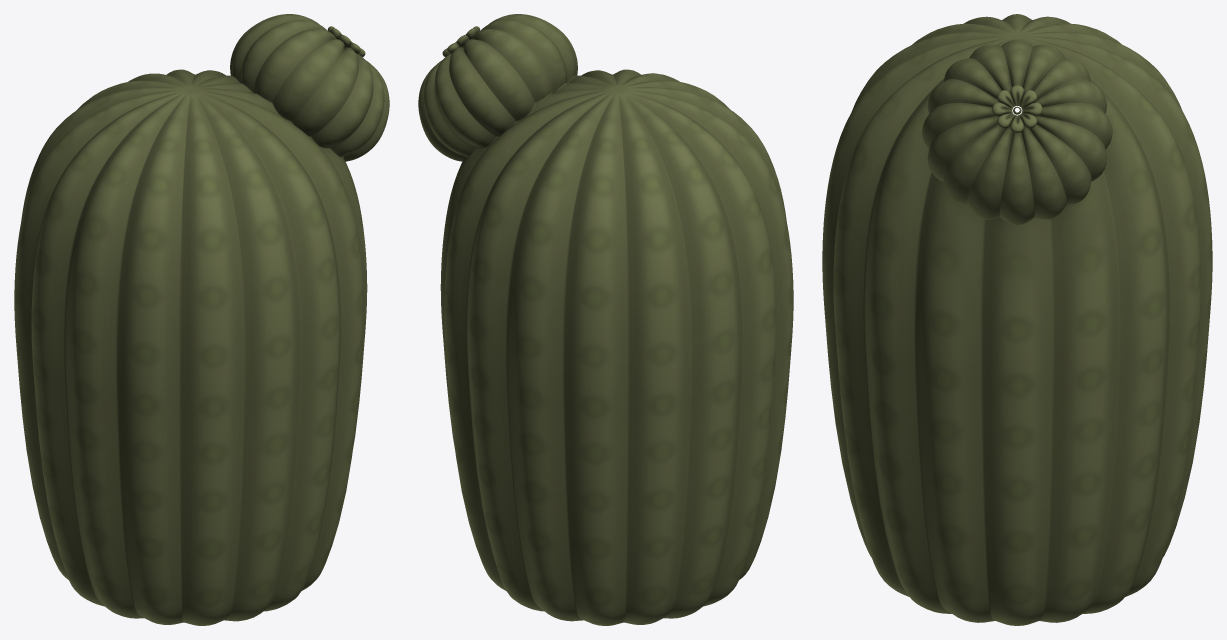
Rendered from cactus.gltf.
3 renders of one model, left to right at view 1: azimuth 30°, elevation 25°; view 2: azimuth 150°, elevation 25°; view 3: azimuth 270°, elevation 25°, orthographic. The views are drawn at different scales.
Visible parts, largest first — view 1: SM_CactusSculpture03; view 2: SM_CactusSculpture03; view 3: SM_CactusSculpture03.
Boxes of the visible parts, left/top/right/bottom form: SM_CactusSculpture03: left=14, top=14, right=389, bottom=625; SM_CactusSculpture03: left=418, top=14, right=793, bottom=625; SM_CactusSculpture03: left=822, top=14, right=1212, bottom=625.
Bounding box in the file's own units: 0.1709 × 0.2603 × 0.1544.
Materials: 1 (1 with a texture image).
